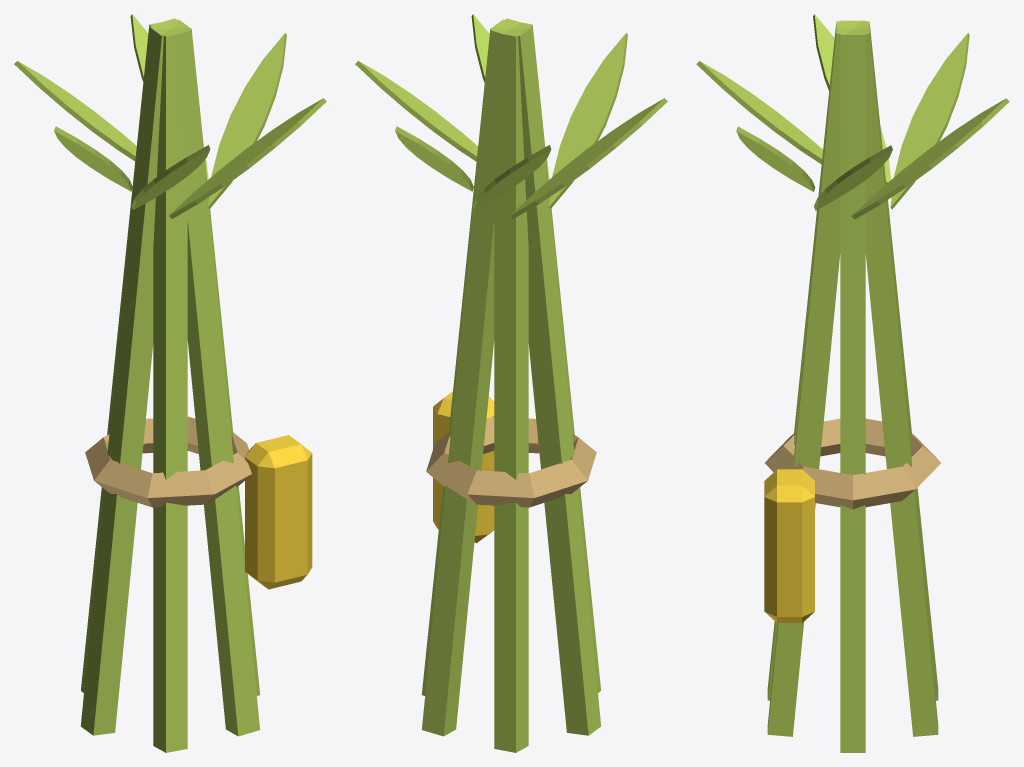
File: CornStalks.fbx
The picture shows the model from 3 angles, left to right: view 1: azimuth 30°, elevation 25°; view 2: azimuth 150°, elevation 25°; view 3: azimuth 270°, elevation 25°; orthographic projection.
Parts seen in each view (by area): view 1: CornStalks; view 2: CornStalks; view 3: CornStalks.
Part boxes in pixels (x1,y1,x2,y2): CornStalks: (14,14,326,752); CornStalks: (355,14,667,752); CornStalks: (696,14,1009,752).
Size of the model in its own units: 2.5 by 6 by 2.48.
1 material, 1 textured.
